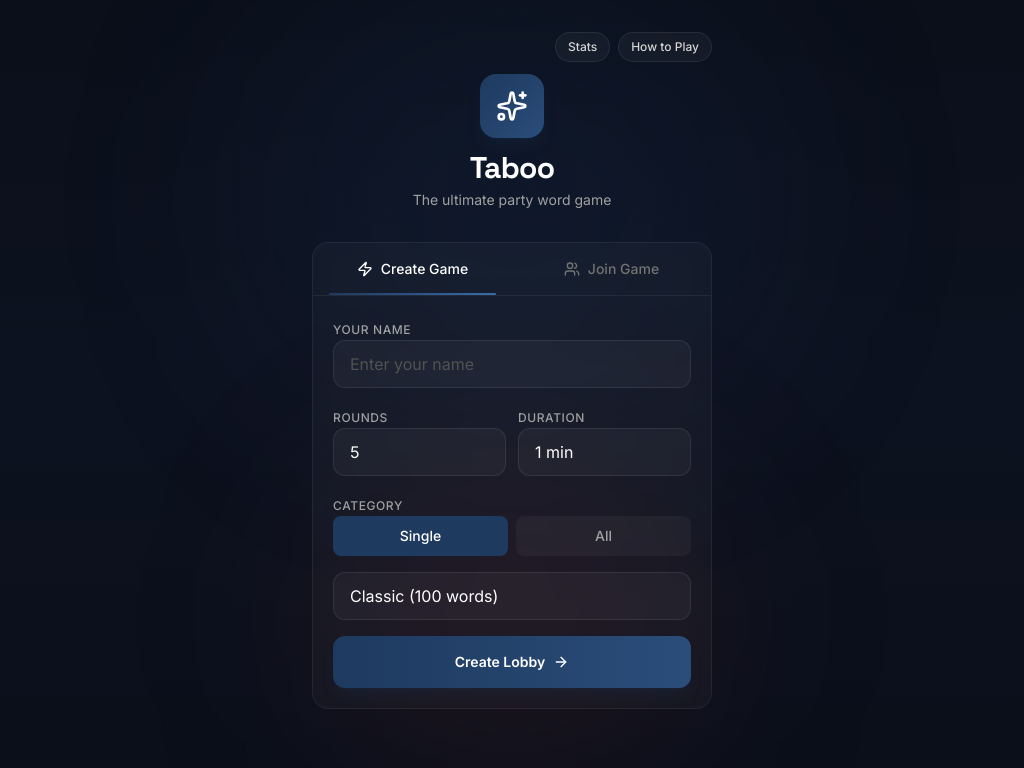
Scenario: App routed lobby flow › shows API error when join fails
Click the button "Join Game" at (612, 269), box left=512, top=243, right=711, bottom=295
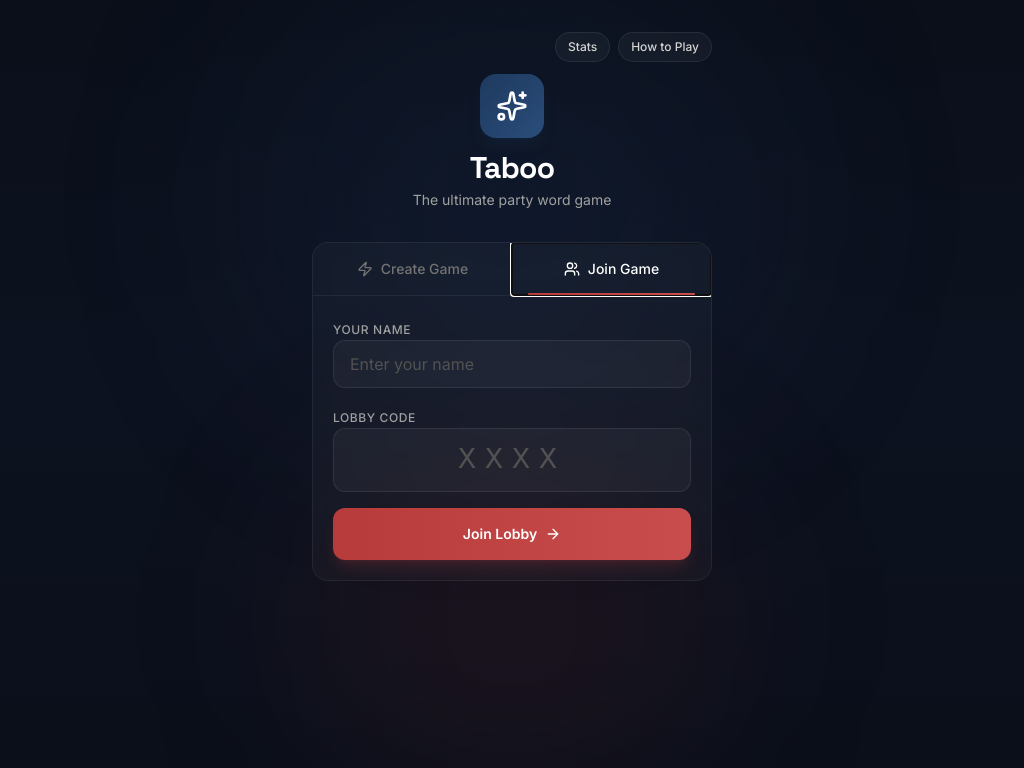
Type "Bob" into the field labelled "Your Name" at (512, 364), box left=333, top=340, right=691, bottom=388
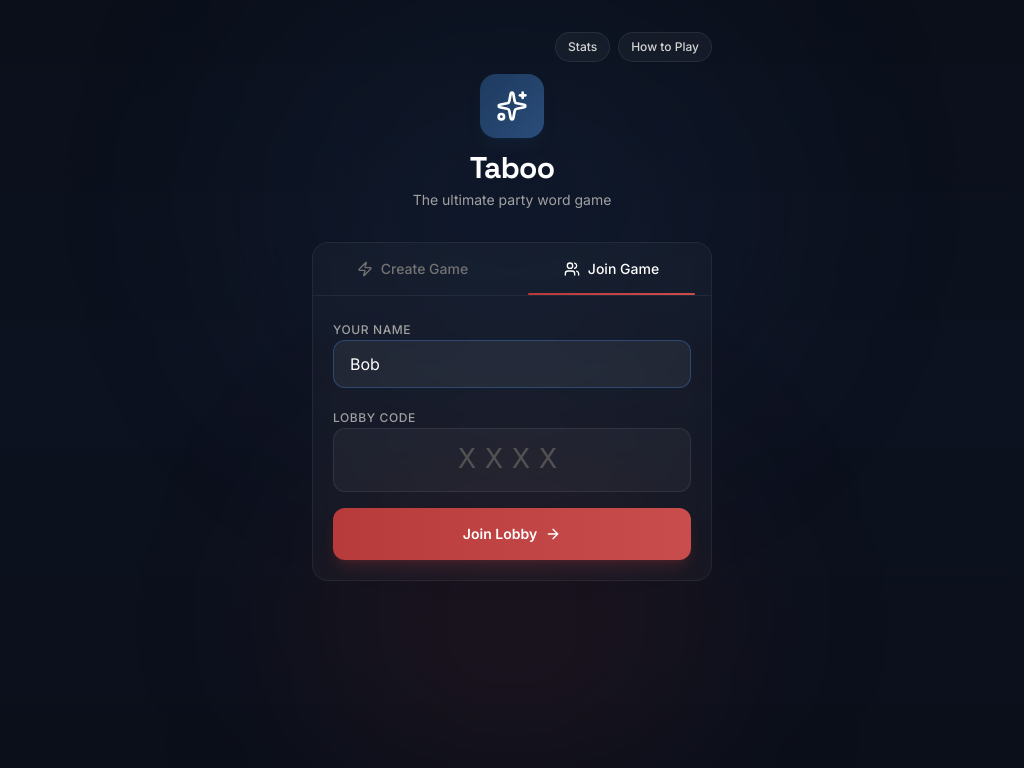
Type "1234" into the field labelled "Lobby Code" at (512, 460), box left=333, top=428, right=691, bottom=492
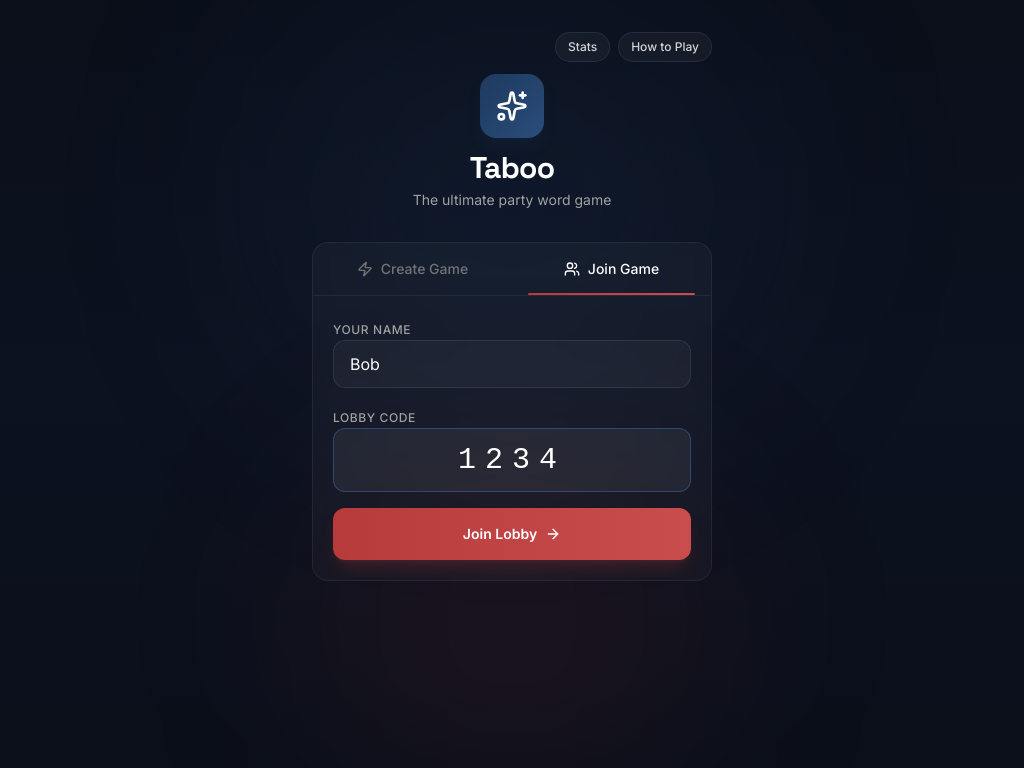
Click the button "Join Lobby" at (512, 534), box left=333, top=508, right=691, bottom=560
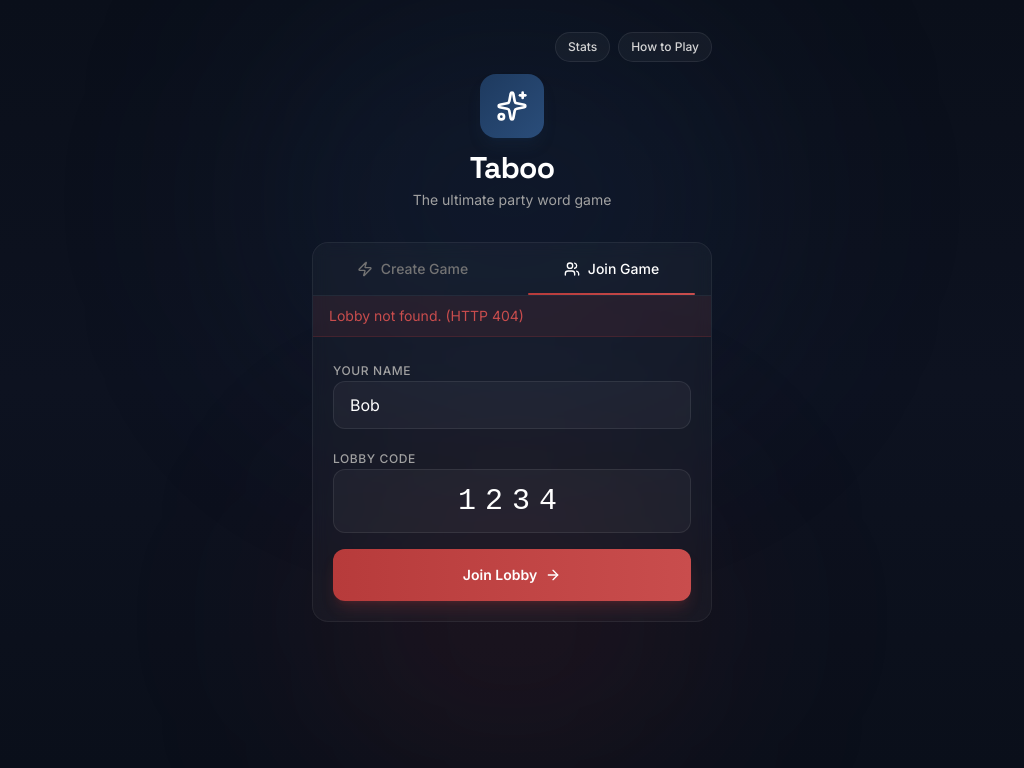
Expected: the text "Lobby not found. (HTTP 404)" is shown, left=329, top=307, right=524, bottom=324
